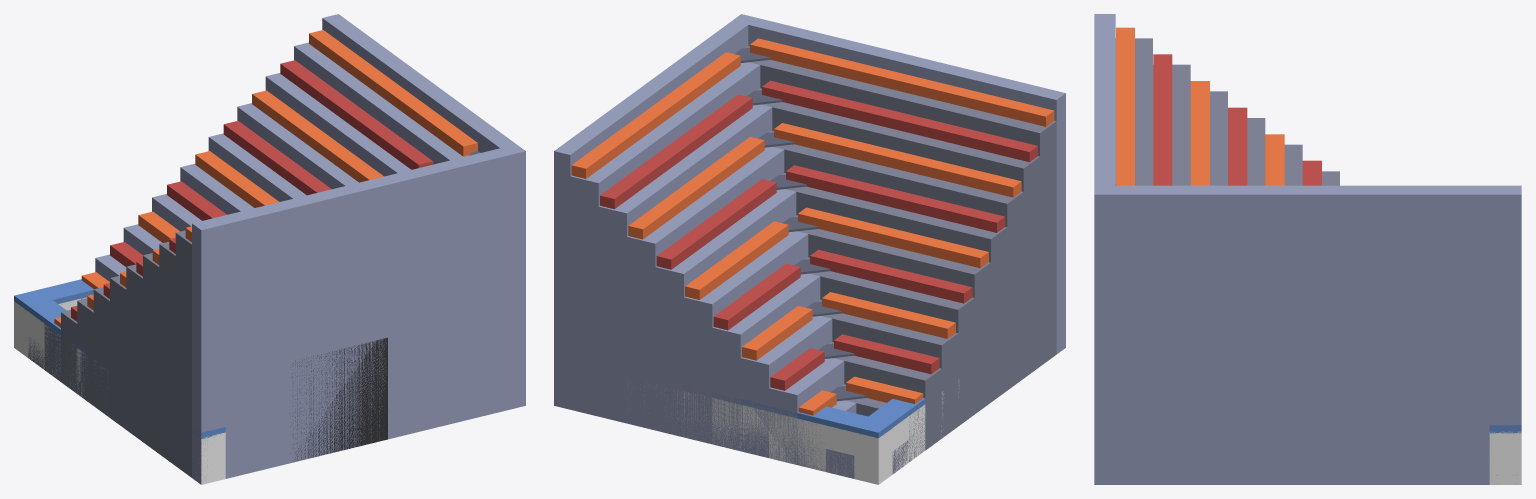
The model's file is tribune-angle.glb.
3 renders of one model, left to right at view 1: azimuth 30°, elevation 25°; view 2: azimuth 150°, elevation 25°; view 3: azimuth 270°, elevation 25°, orthographic. The views are drawn at different scales.
Parts seen in each view (by area): view 1: mur-arriere-nord, ouverture, mur-arriere-est, rang-z-9, rang-x-9, siege-z-9, rang-x-8, rang-z-8, siege-z-8, rang-x-7, siege-z-7, rang-z-7 (+20 smaller); view 2: rang-z-9, rang-z-8, rang-x-9, mur-arriere-est, mur-arriere-nord, rang-x-8, rang-z-7, rang-x-7, rang-z-6, muret-sud, rang-x-6, rang-z-5 (+31 smaller); view 3: mur-arriere-est, mur-arriere-nord, siege-x-9, rang-x-9, siege-x-8, rang-x-8, siege-x-7, muret-sud, rang-x-7, siege-x-6, rang-x-6, siege-x-5 (+2 smaller).
Part boxes in pixels (x1=…): mur-arriere-nord: x1=192, y1=144, x2=525, y2=484; ouverture: x1=290, y1=337, x2=387, y2=461; mur-arriere-est: x1=322, y1=14, x2=515, y2=152; rang-z-9: x1=294, y1=42, x2=468, y2=164; rang-x-9: x1=175, y1=230, x2=191, y2=477; siege-z-9: x1=309, y1=30, x2=477, y2=156; rang-x-8: x1=159, y1=241, x2=175, y2=465; rang-z-8: x1=265, y1=73, x2=411, y2=176; siege-z-8: x1=280, y1=60, x2=433, y2=169; rang-x-7: x1=143, y1=253, x2=159, y2=453; siege-z-7: x1=252, y1=90, x2=383, y2=182; rang-z-7: x1=237, y1=103, x2=358, y2=189; rang-z-9: x1=570, y1=62, x2=760, y2=416; rang-z-8: x1=598, y1=104, x2=772, y2=423; rang-x-9: x1=745, y1=46, x2=1056, y2=366; mur-arriere-est: x1=554, y1=21, x2=748, y2=409; mur-arriere-nord: x1=732, y1=14, x2=1065, y2=354; rang-x-8: x1=757, y1=88, x2=1039, y2=378; rang-z-7: x1=627, y1=147, x2=784, y2=430; rang-x-7: x1=770, y1=130, x2=1023, y2=390; rang-z-6: x1=655, y1=189, x2=796, y2=437; muret-sud: x1=600, y1=373, x2=892, y2=484; rang-x-6: x1=782, y1=173, x2=1007, y2=402; rang-z-5: x1=684, y1=231, x2=808, y2=444; mur-arriere-est: x1=1115, y1=185, x2=1521, y2=484; mur-arriere-nord: x1=1094, y1=14, x2=1115, y2=484; siege-x-9: x1=1116, y1=27, x2=1134, y2=185; rang-x-9: x1=1115, y1=38, x2=1152, y2=185; siege-x-8: x1=1153, y1=54, x2=1172, y2=185; rang-x-8: x1=1153, y1=64, x2=1190, y2=185; siege-x-7: x1=1190, y1=81, x2=1209, y2=185; muret-sud: x1=1489, y1=431, x2=1521, y2=484; rang-x-7: x1=1210, y1=91, x2=1227, y2=185; siege-x-6: x1=1228, y1=107, x2=1247, y2=185; rang-x-6: x1=1247, y1=118, x2=1265, y2=185; siege-x-5: x1=1265, y1=134, x2=1284, y2=185.
Size of the model in its own units: 0.4 by 0.3 by 0.4.
